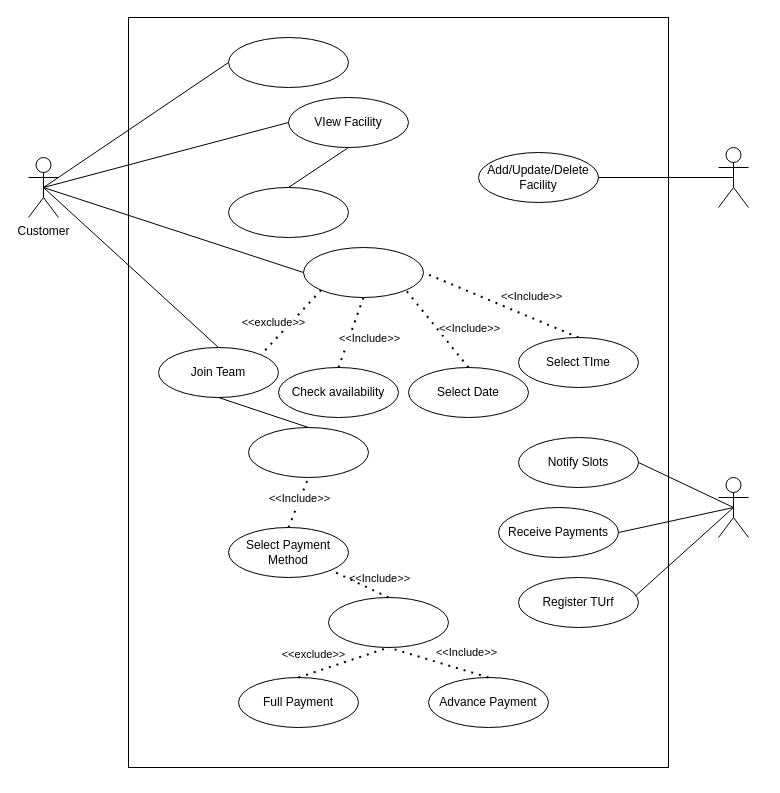
Image size: 780x793. Some labels were removed from this diagram. Here are the shapes that lost their labels. From the top down, the centre of each, then its label:
At point (288, 62): "Login/Register".
At point (733, 177): "Admin".
At point (288, 212): "VIew Loaction".
At point (363, 272): "Select sport".
At point (308, 452): "Make Reservati on".
At point (733, 507): "Turf Owner".
At point (388, 622): "Check Offers".
